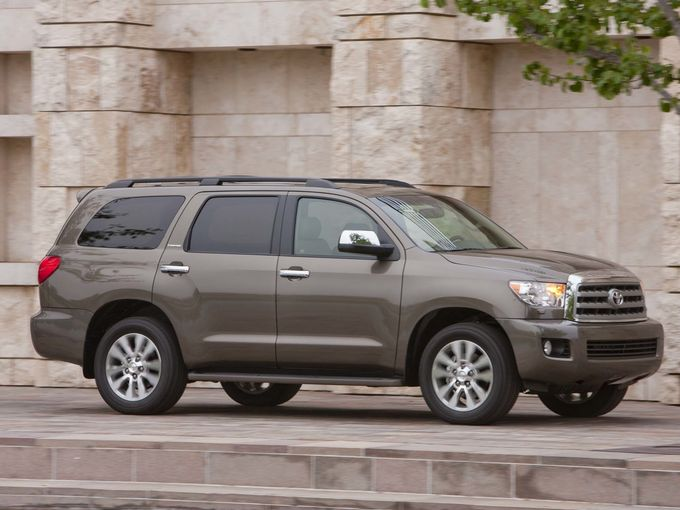car: (9, 166, 671, 451)
